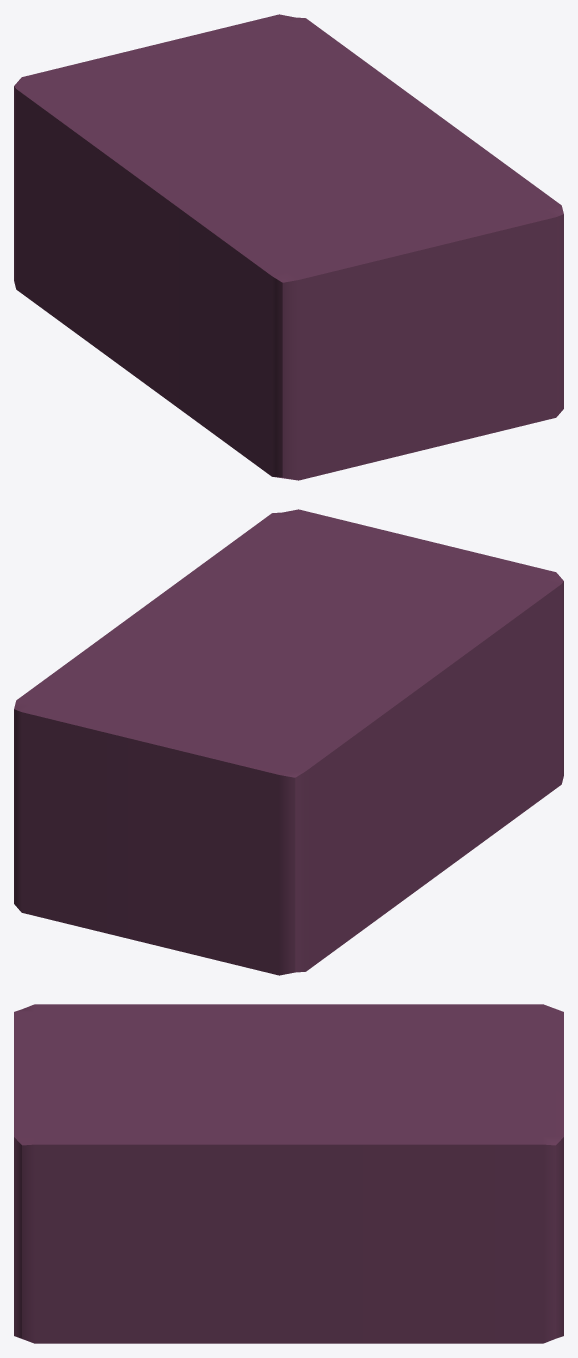
The model's file is Semiconductor chunck.fbx.
3 views of the same model, one above another, from view 1: azimuth 30°, elevation 25°; view 2: azimuth 150°, elevation 25°; view 3: azimuth 270°, elevation 25° (orthographic).
Parts seen in each view (by area): view 1: semiconductor_chunck6; view 2: semiconductor_chunck6; view 3: semiconductor_chunck6.
Boxes of the visible parts, x1,y1,x2,y2 form: semiconductor_chunck6: [14, 14, 563, 480]; semiconductor_chunck6: [14, 509, 563, 975]; semiconductor_chunck6: [14, 1004, 563, 1343].
Bounding box in the file's own units: 0.8458 × 0.5595 × 1.4.
